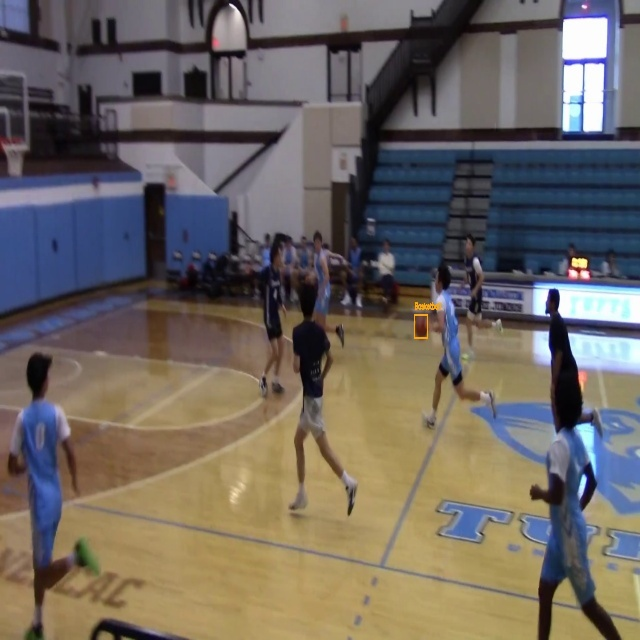Basketball: (415, 315, 428, 338)
